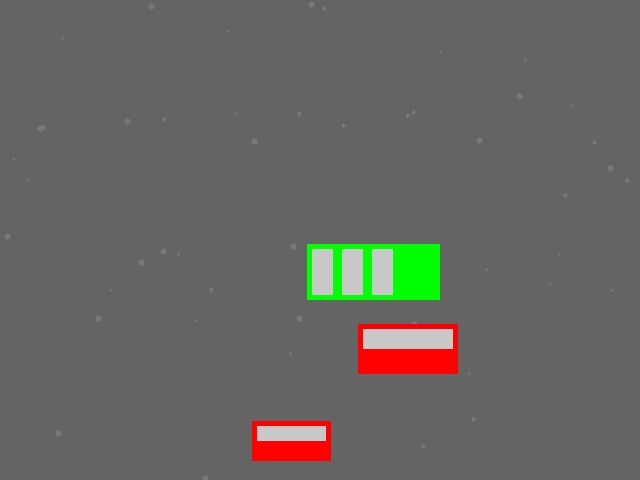bus: (307, 244, 439, 299)
car: (358, 324, 457, 373), (252, 421, 330, 460)
